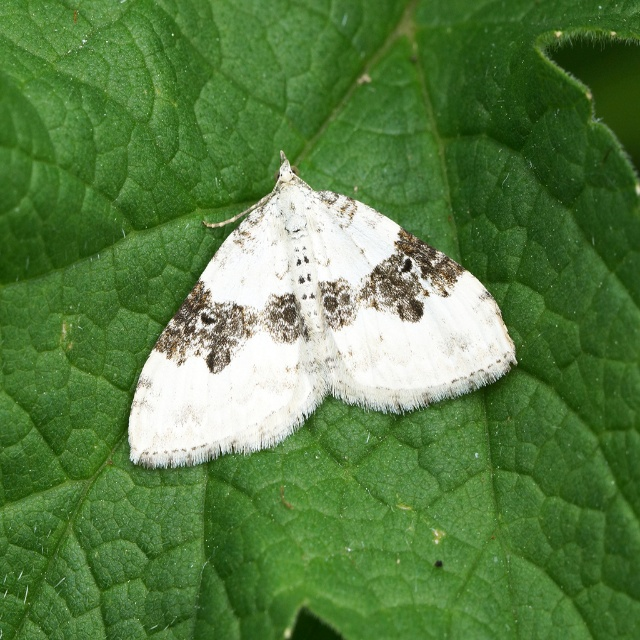Moths and butterflies: (128, 145, 519, 471)
